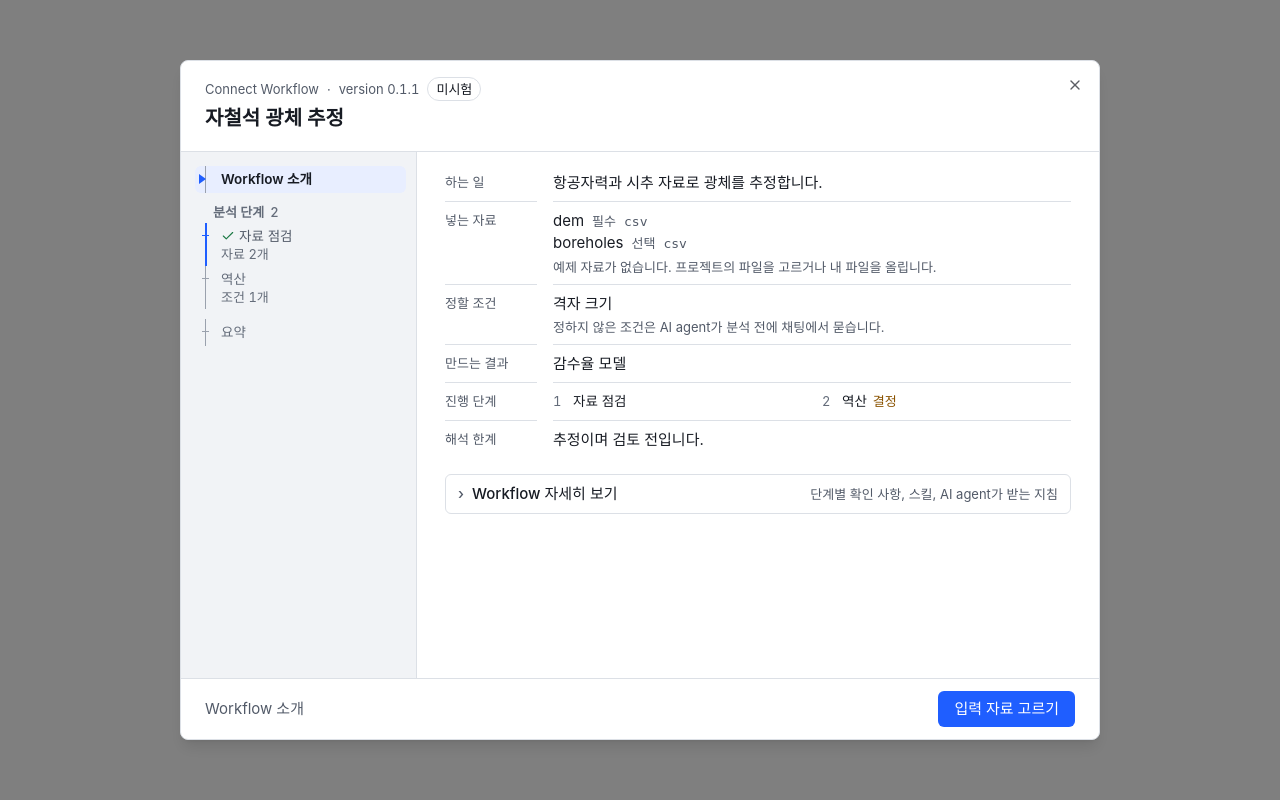
Test: GAID Workflow start window › opens on what the Workflow does, groups files and flags an unused fitting file in the summary
Expected: the text "항공자력과 시추 자료로 광체를 추정합니다." is shown, top-left (553, 172), bottom-right (823, 192)
Expected: the text "감수율 모델" is shown, top-left (553, 344), bottom-right (1071, 382)
Step 1. Click the button "입력 자료 고르기" → (1007, 709), box top-left (938, 691), bottom-right (1075, 727)
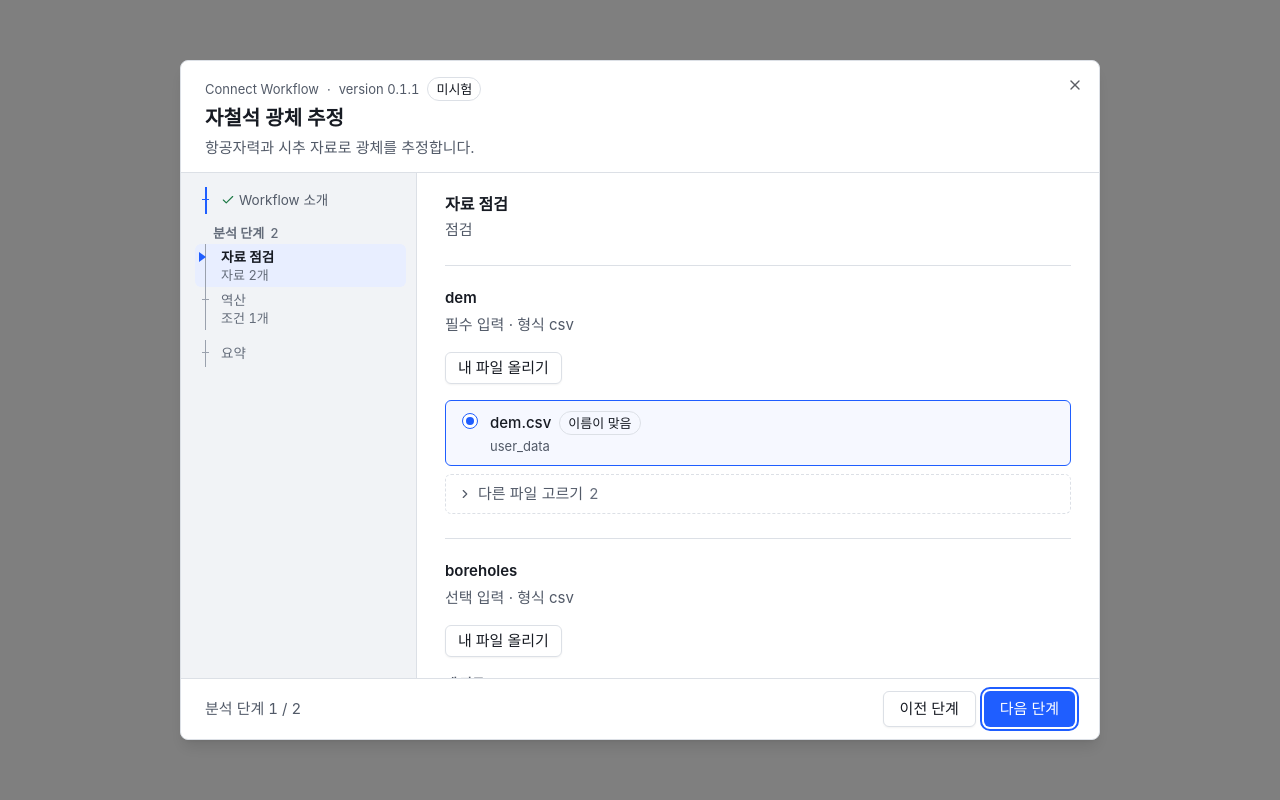
Expected: the heading "boreholes" is shown, top-left (445, 560), bottom-right (517, 580)
Result: the text "분석 단계 1 / 2" is shown at top-left (205, 698), bottom-right (301, 720)
Result: the heading "dem" is shown at top-left (445, 288), bottom-right (477, 306)
Step 2. Click the button "다른 파일 고르기 2" → (531, 493), box top-left (445, 474), bottom-right (1071, 514)
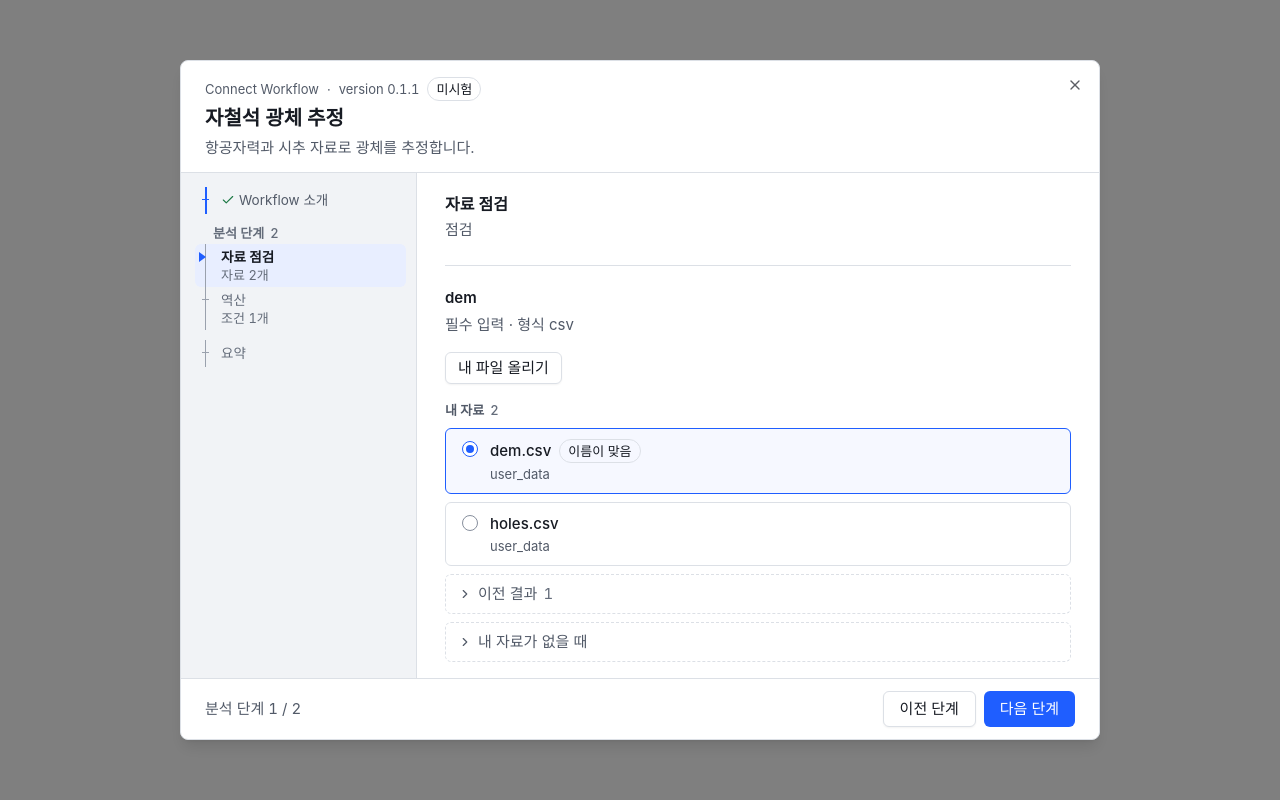
Step 3. Click the tab "요약" → (300, 353), box top-left (195, 340), bottom-right (406, 366)
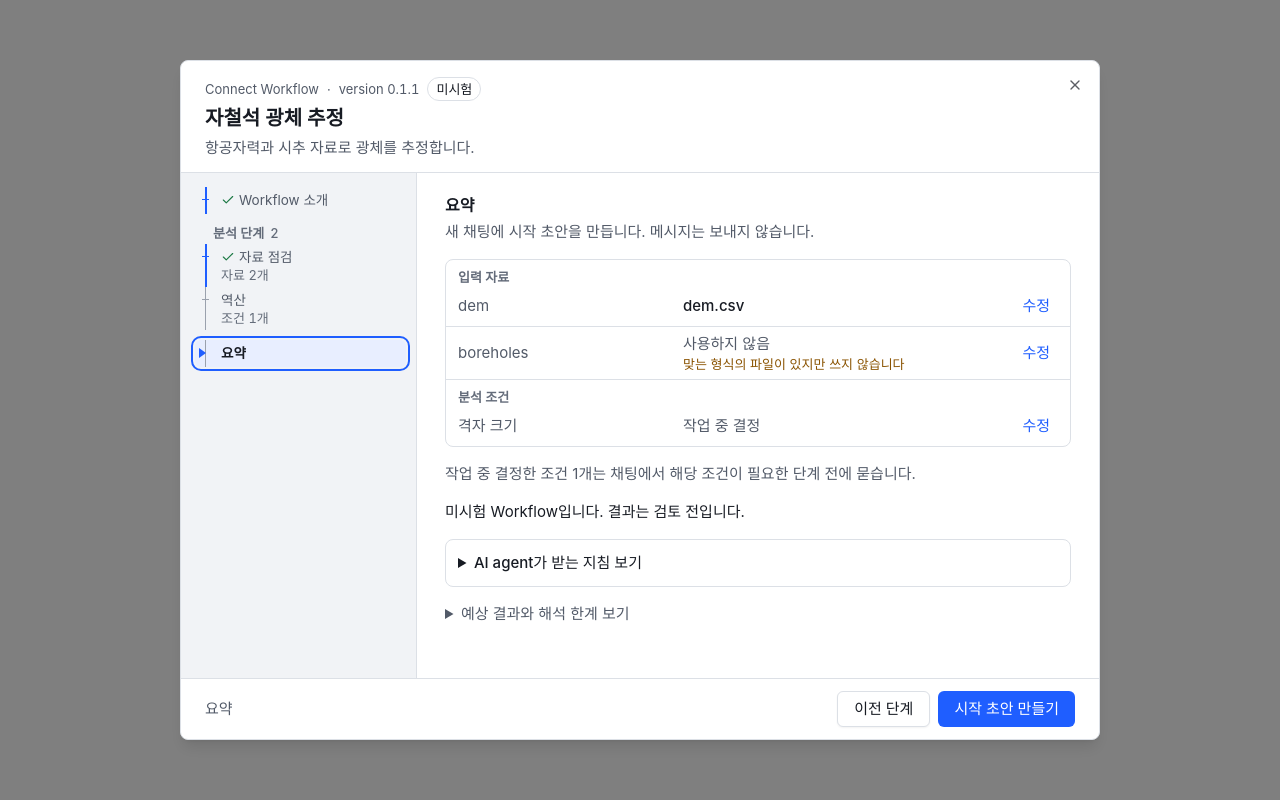
Result: the text "맞는 형식의 파일이 있지만 쓰지 않습니다" is shown at top-left (683, 356), bottom-right (905, 372)
